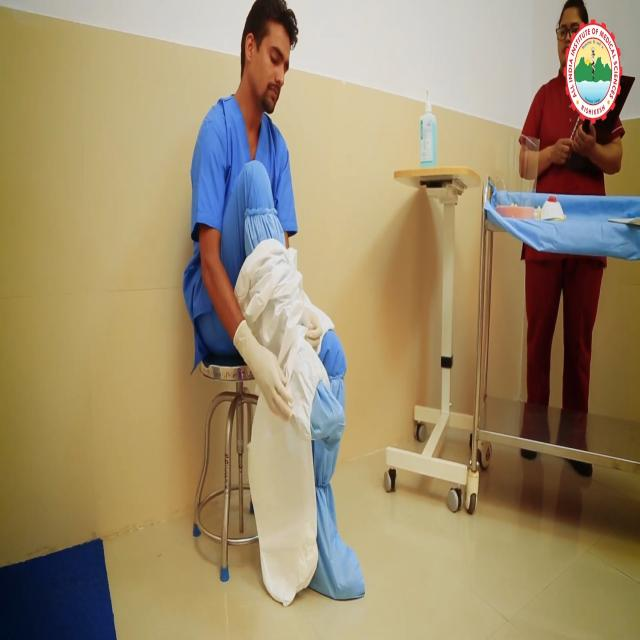Gloves: (231, 314, 295, 428)
